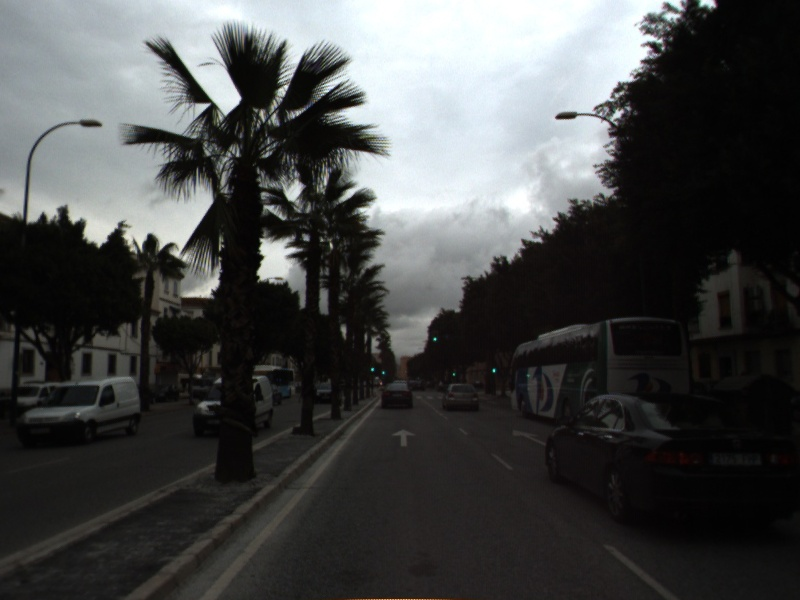STRAIGHT: (510, 426, 548, 446), (390, 427, 419, 449)
